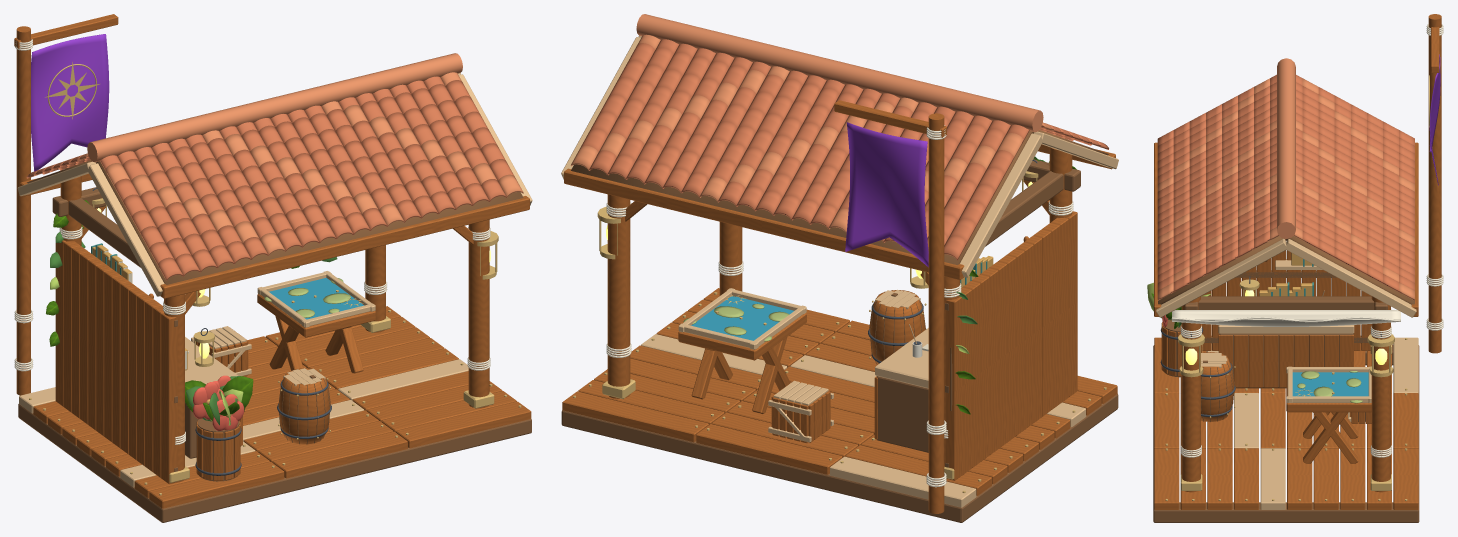
File: welcome-harbor-v1.glb
3 views of the same model, side by side, from view 1: azimuth 30°, elevation 25°; view 2: azimuth 150°, elevation 25°; view 3: azimuth 270°, elevation 25° (orthographic). The views are drawn at different scales.
Parts seen in each view (by area): view 1: WelcomeHarbor_Violet_Compass_Pennant, WelcomeHarbor_Ridge_Curved_Cap, WelcomeHarbor_Foundation_Beam_Z_1.9500000000000002, WelcomeHarbor_Eave_-1_Crafted_Fascia, WelcomeHarbor_Compass_Flag_Mast, WelcomeHarbor_harbor-post-front-south, WelcomeHarbor_Roof_-1_Timber_Bed, WelcomeHarbor_harbor-back-wall_Board_13, WelcomeHarbor_harbor-barrel_Rounded_Staved_Body, WelcomeHarbor_Floor_Row_09_Board_2, WelcomeHarbor_Floor_Row_09_Board_1, WelcomeHarbor_Floor_Row_09_Board_0 (+41 smaller); view 2: WelcomeHarbor_Violet_Compass_Pennant, WelcomeHarbor_Ridge_Curved_Cap, WelcomeHarbor_Foundation_Beam_Z_-1.9500000000000002, WelcomeHarbor_Compass_Flag_Mast, WelcomeHarbor_Eave_1_Crafted_Fascia, WelcomeHarbor_harbor-post-front-north, WelcomeHarbor_Counter_Cabinet_Core, WelcomeHarbor_Floor_Row_00_Board_2, WelcomeHarbor_Floor_Row_00_Board_1, WelcomeHarbor_harbor-back-wall_Board_00, WelcomeHarbor_Roof_1_Timber_Bed, WelcomeHarbor_Floor_Row_00_Board_0 (+46 smaller); view 3: WelcomeHarbor_Foundation_Beam_X_2.95, WelcomeHarbor_Compass_Flag_Mast, WelcomeHarbor_Ridge_Curved_Cap, WelcomeHarbor_Front_Cream_Scalloped_Linen, WelcomeHarbor_harbor-post-front-south, WelcomeHarbor_harbor-post-front-north, WelcomeHarbor_High_Tie_Beam_Z_1, WelcomeHarbor_Gable_Rafter_-1_-1, WelcomeHarbor_Gable_Rafter_1_-1, WelcomeHarbor_Floor_Row_05_Board_2, WelcomeHarbor_Floor_Row_09_Board_2, WelcomeHarbor_Floor_Row_00_Board_2 (+44 smaller).
Part boxes in pixels (x1=…): WelcomeHarbor_Violet_Compass_Pennant: x1=31, y1=34, x2=109, y2=171; WelcomeHarbor_Ridge_Curved_Cap: x1=87, y1=53, x2=462, y2=162; WelcomeHarbor_Foundation_Beam_Z_1.9500000000000002: x1=153, y1=419, x2=531, y2=522; WelcomeHarbor_Eave_-1_Crafted_Fascia: x1=160, y1=196, x2=529, y2=298; WelcomeHarbor_Compass_Flag_Mast: x1=16, y1=26, x2=30, y2=388; WelcomeHarbor_harbor-post-front-south: x1=468, y1=219, x2=489, y2=408; WelcomeHarbor_Roof_-1_Timber_Bed: x1=96, y1=161, x2=523, y2=284; WelcomeHarbor_harbor-back-wall_Board_13: x1=161, y1=313, x2=177, y2=483; WelcomeHarbor_harbor-barrel_Rounded_Staved_Body: x1=278, y1=368, x2=330, y2=444; WelcomeHarbor_Floor_Row_09_Board_2: x1=396, y1=401, x2=531, y2=448; WelcomeHarbor_Floor_Row_09_Board_1: x1=272, y1=431, x2=407, y2=478; WelcomeHarbor_Floor_Row_09_Board_0: x1=149, y1=461, x2=284, y2=508; WelcomeHarbor_Violet_Compass_Pennant: x1=845, y1=122, x2=928, y2=267; WelcomeHarbor_Ridge_Curved_Cap: x1=636, y1=14, x2=1043, y2=132; WelcomeHarbor_Foundation_Beam_Z_-1.9500000000000002: x1=561, y1=410, x2=971, y2=522; WelcomeHarbor_Compass_Flag_Mast: x1=928, y1=113, x2=944, y2=505; WelcomeHarbor_Eave_1_Crafted_Fascia: x1=564, y1=168, x2=964, y2=280; WelcomeHarbor_harbor-post-front-north: x1=607, y1=194, x2=630, y2=398; WelcomeHarbor_Counter_Cabinet_Core: x1=876, y1=376, x2=928, y2=452; WelcomeHarbor_Floor_Row_00_Board_2: x1=562, y1=391, x2=708, y2=442; WelcomeHarbor_Floor_Row_00_Board_1: x1=696, y1=424, x2=842, y2=474; WelcomeHarbor_harbor-back-wall_Board_00: x1=945, y1=296, x2=963, y2=480; WelcomeHarbor_Roof_1_Timber_Bed: x1=571, y1=131, x2=1033, y2=264; WelcomeHarbor_Floor_Row_00_Board_0: x1=830, y1=456, x2=976, y2=507; WelcomeHarbor_Foundation_Beam_X_2.95: x1=1153, y1=502, x2=1419, y2=522; WelcomeHarbor_Compass_Flag_Mast: x1=1428, y1=14, x2=1441, y2=346; WelcomeHarbor_Ridge_Curved_Cap: x1=1277, y1=58, x2=1295, y2=238; WelcomeHarbor_Front_Cream_Scalloped_Linen: x1=1172, y1=310, x2=1400, y2=326; WelcomeHarbor_harbor-post-front-south: x1=1181, y1=296, x2=1200, y2=492; WelcomeHarbor_harbor-post-front-north: x1=1371, y1=296, x2=1390, y2=492; WelcomeHarbor_High_Tie_Beam_Z_1: x1=1198, y1=296, x2=1374, y2=309; WelcomeHarbor_Gable_Rafter_-1_-1: x1=1156, y1=239, x2=1287, y2=317; WelcomeHarbor_Gable_Rafter_1_-1: x1=1285, y1=239, x2=1416, y2=317; WelcomeHarbor_Floor_Row_05_Board_2: x1=1260, y1=448, x2=1285, y2=509; WelcomeHarbor_Floor_Row_09_Board_2: x1=1154, y1=448, x2=1179, y2=509; WelcomeHarbor_Floor_Row_00_Board_2: x1=1393, y1=448, x2=1418, y2=509.
Size of the model in its own units: 6.36 by 6.06 by 4.68.
21 materials, 2 textured.
